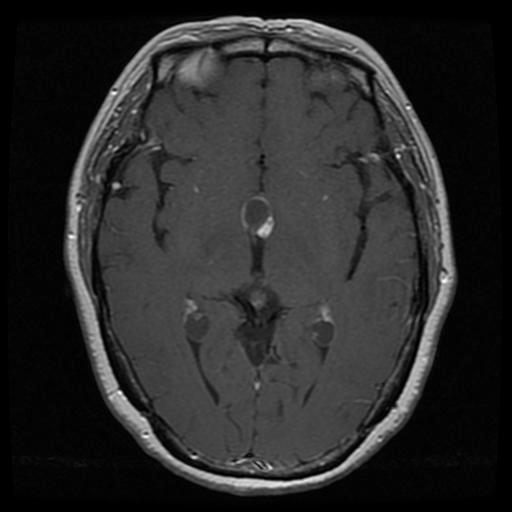Tumour-Pituitary: (240, 193, 275, 245)
